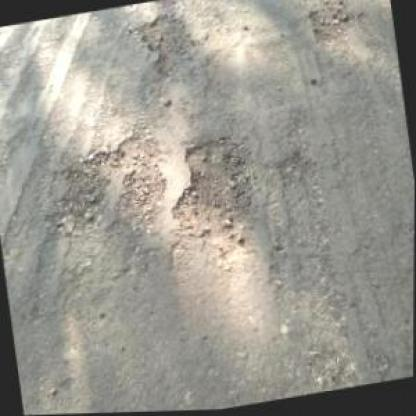pothole: (160, 130, 271, 272), (44, 147, 124, 236), (107, 129, 174, 230), (132, 11, 201, 86), (305, 1, 368, 50)
